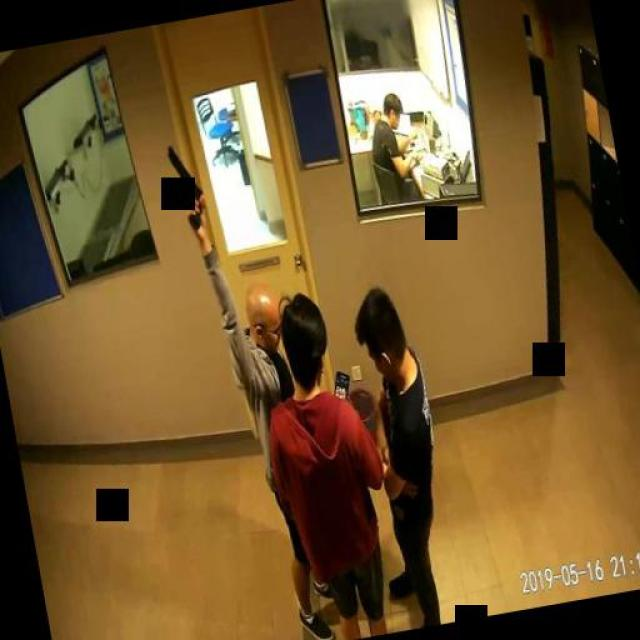gun: (165, 140, 207, 234)
